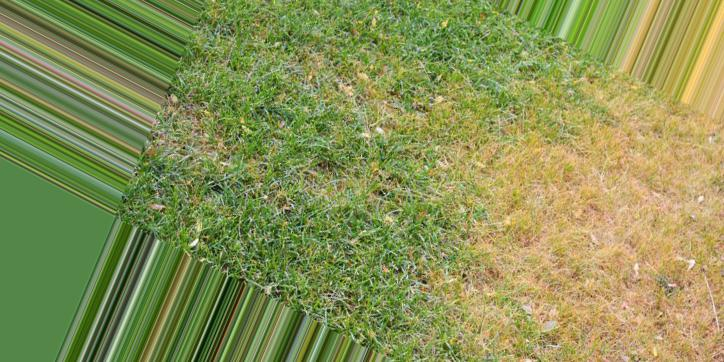patch: (510, 143, 669, 308), (586, 316, 694, 361), (608, 95, 685, 137)
